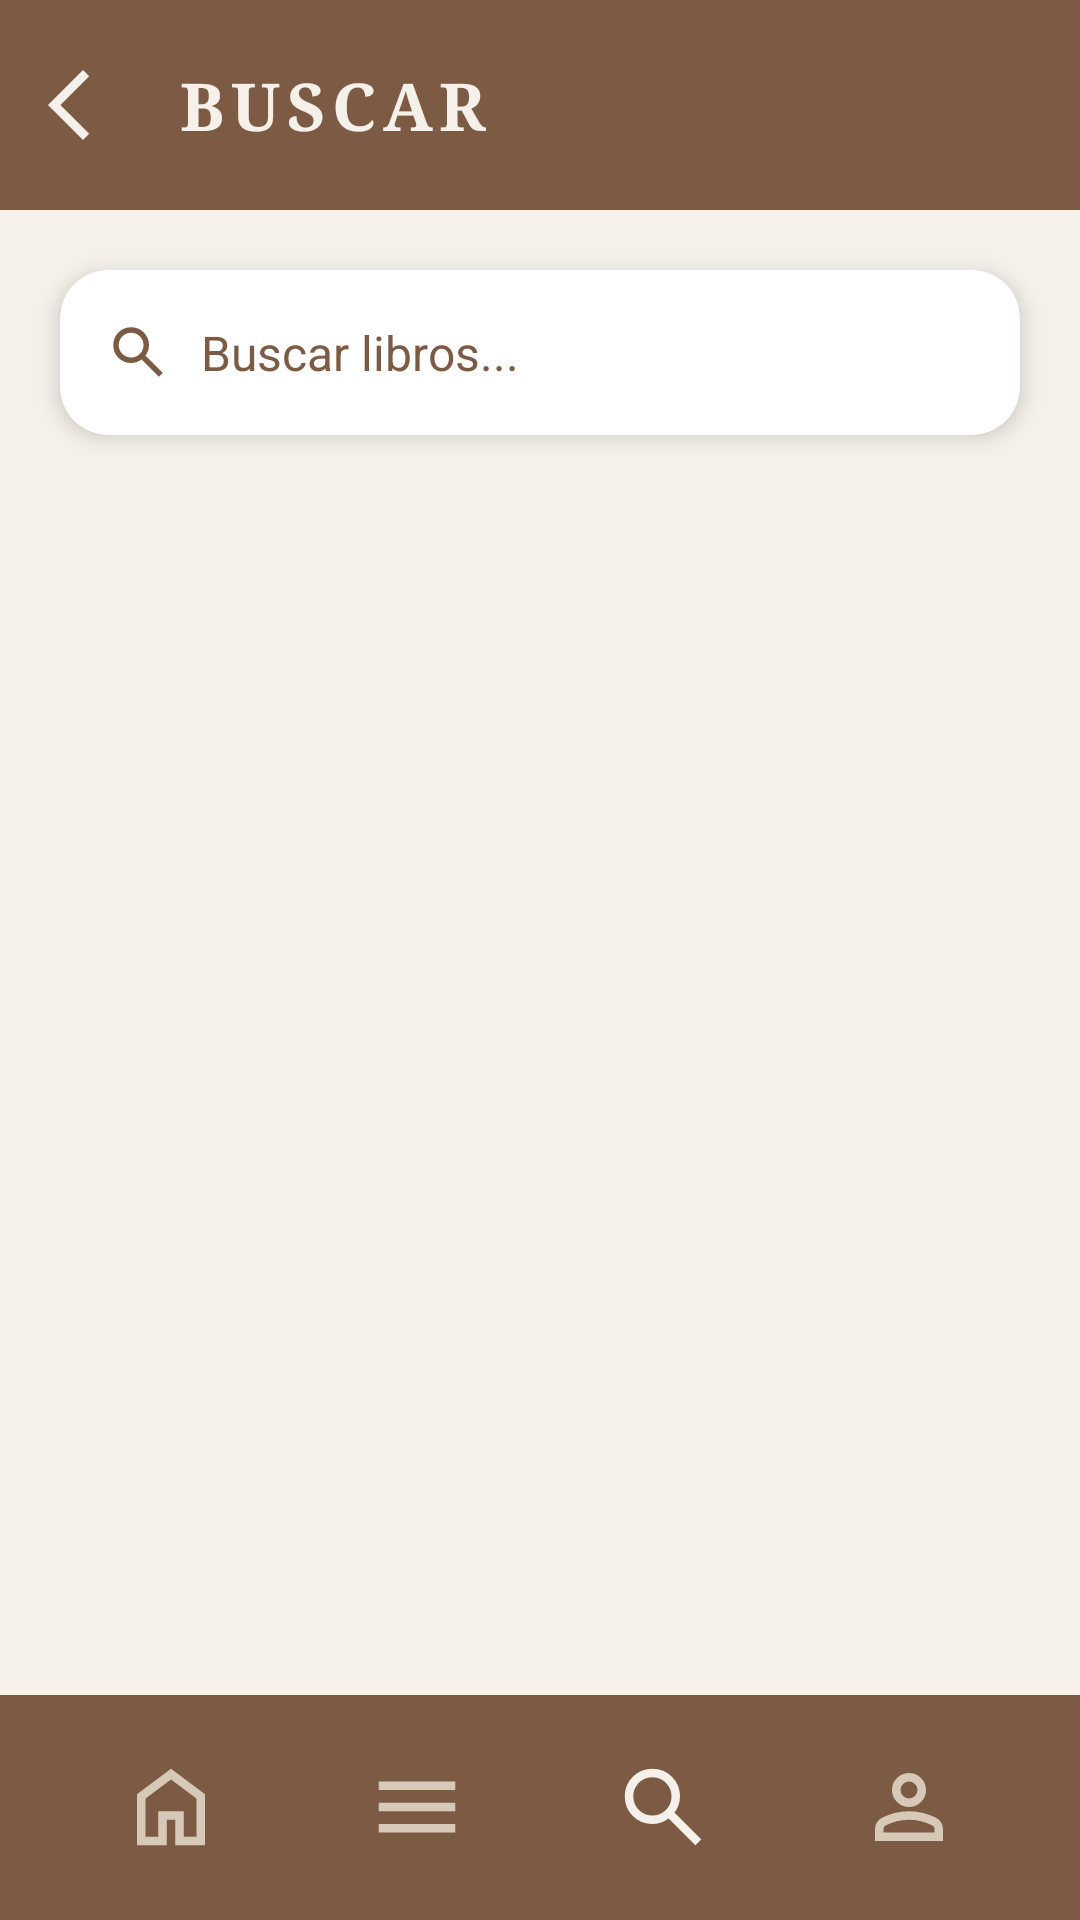

Screen size 1080×1920. Icon name, then its box in pixels as (x1=x1, y1=y1, x2=x2, y2=y2):
flecha left: (x1=48, y1=70, x2=89, y2=140)
home: (x1=137, y1=1769, x2=205, y2=1846)
lista: (x1=378, y1=1781, x2=456, y2=1833)
lupa: (x1=113, y1=327, x2=163, y2=377), (x1=624, y1=1768, x2=701, y2=1845)
perfil: (x1=875, y1=1773, x2=943, y2=1841)
